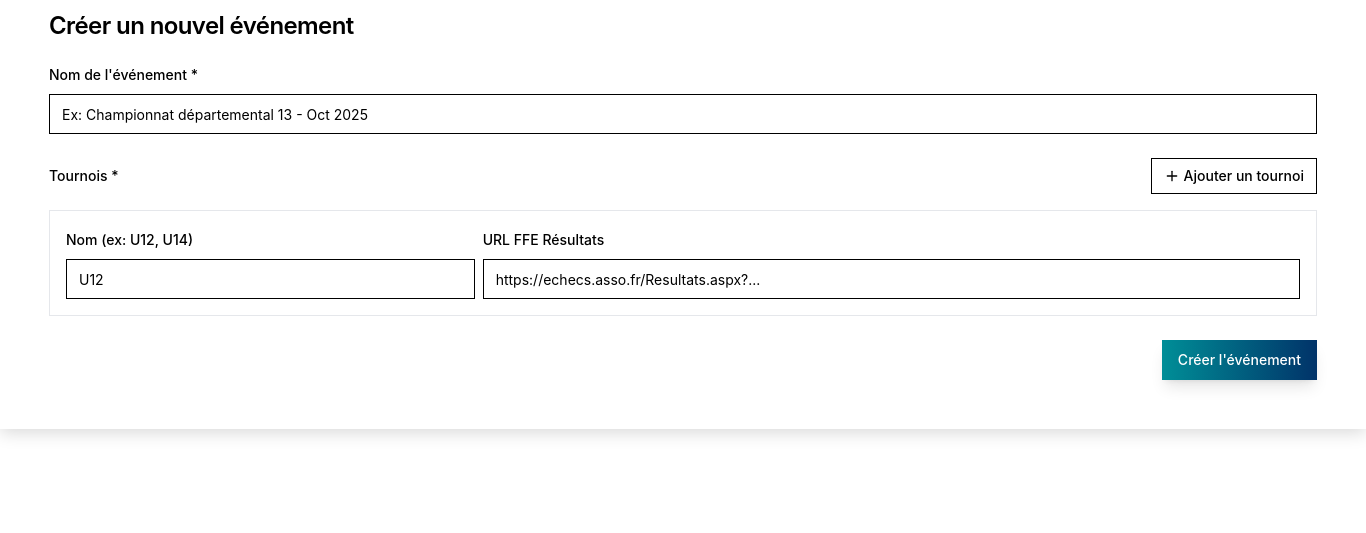
it: EventForm › Event Name Validation › shows error when submitting with empty event name
Click the button "Créer l'événement". click: (1239, 360)
box: [1162, 340, 1317, 380]
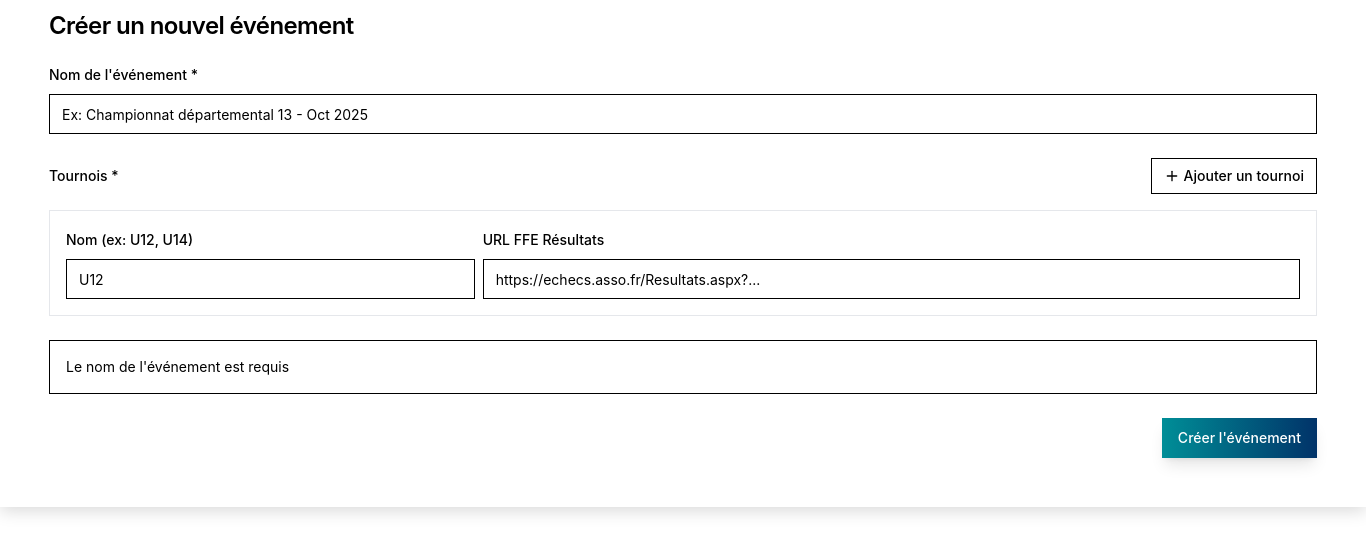
Expected: the message shows "événement est requis", [66, 358, 289, 375]
